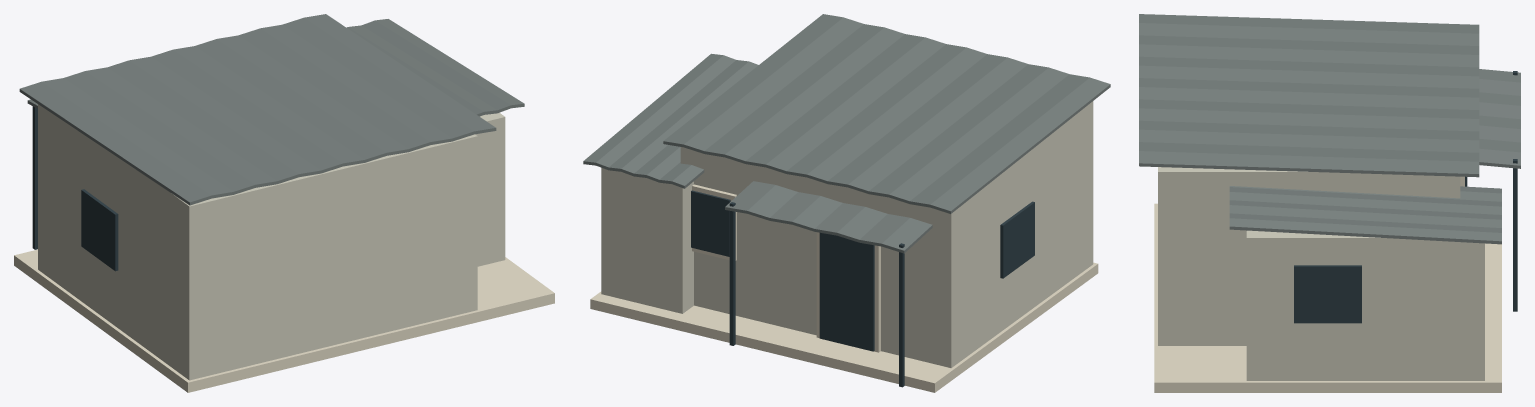
Rendered from KOL_T3_INF_03.fbx.
The picture shows the model from 3 angles, left to right: view 1: azimuth 30°, elevation 25°; view 2: azimuth 150°, elevation 25°; view 3: azimuth 270°, elevation 25°; orthographic projection. The views are drawn at different scales.
Parts seen in each view (by area): view 1: KOL_T3_INF_03__Body, KOL_T3_INF_03__Roof, KOL_T3_INF_03__Trim, KOL_T3_INF_03__Dark; view 2: KOL_T3_INF_03__Roof, KOL_T3_INF_03__Body, KOL_T3_INF_03__Trim, KOL_T3_INF_03__Dark; view 3: KOL_T3_INF_03__Roof, KOL_T3_INF_03__Body, KOL_T3_INF_03__Trim, KOL_T3_INF_03__Dark.
Boxes of the visible parts, x1=… form: KOL_T3_INF_03__Body: x1=38, y1=104, x2=505, y2=380; KOL_T3_INF_03__Roof: x1=19, y1=14, x2=524, y2=205; KOL_T3_INF_03__Trim: x1=14, y1=249, x2=554, y2=392; KOL_T3_INF_03__Dark: x1=32, y1=106, x2=118, y2=271; KOL_T3_INF_03__Roof: x1=583, y1=14, x2=1110, y2=253; KOL_T3_INF_03__Body: x1=601, y1=101, x2=1093, y2=367; KOL_T3_INF_03__Trim: x1=590, y1=184, x2=1098, y2=392; KOL_T3_INF_03__Dark: x1=691, y1=190, x2=1034, y2=387; KOL_T3_INF_03__Roof: x1=1139, y1=14, x2=1520, y2=244; KOL_T3_INF_03__Body: x1=1158, y1=167, x2=1484, y2=380; KOL_T3_INF_03__Trim: x1=1154, y1=176, x2=1501, y2=392; KOL_T3_INF_03__Dark: x1=1294, y1=71, x2=1517, y2=323.
Size of the model in its own units: 23.21 by 11.62 by 20.2.
